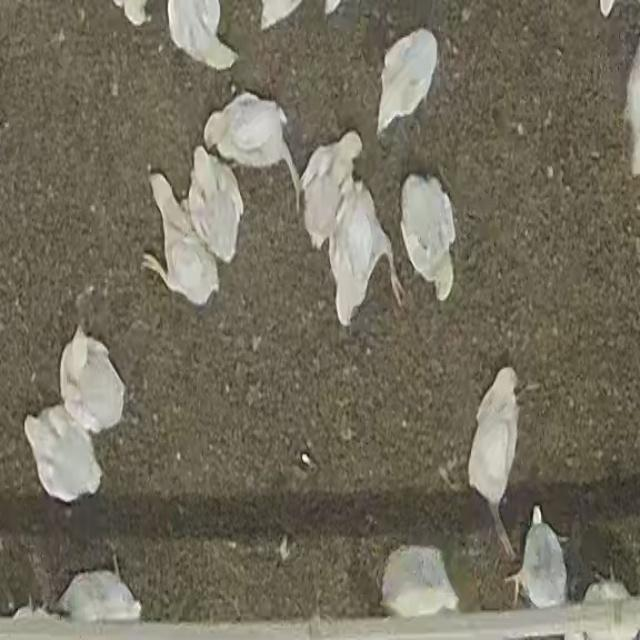chicken: (205, 93, 304, 209), (467, 366, 522, 559), (143, 170, 219, 308), (24, 404, 104, 505), (59, 324, 126, 439), (331, 190, 385, 325), (401, 173, 456, 302), (187, 145, 245, 266), (375, 28, 442, 130), (301, 133, 364, 238), (381, 544, 459, 618), (517, 505, 567, 607), (167, 1, 237, 73), (56, 568, 148, 616)
